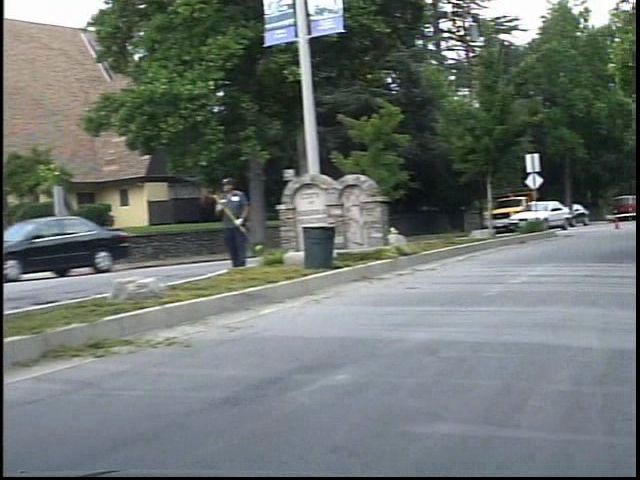person: (225, 174, 266, 272)
